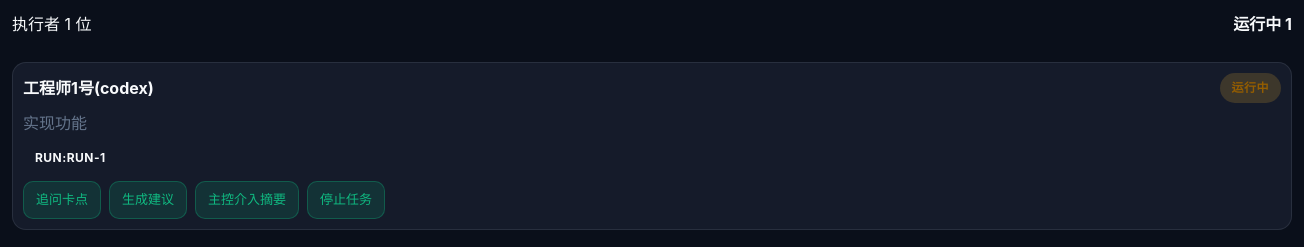
Test: executor stop button transitions from idle to success
Click the button "停止任务" at (346, 200), box [307, 181, 385, 218]
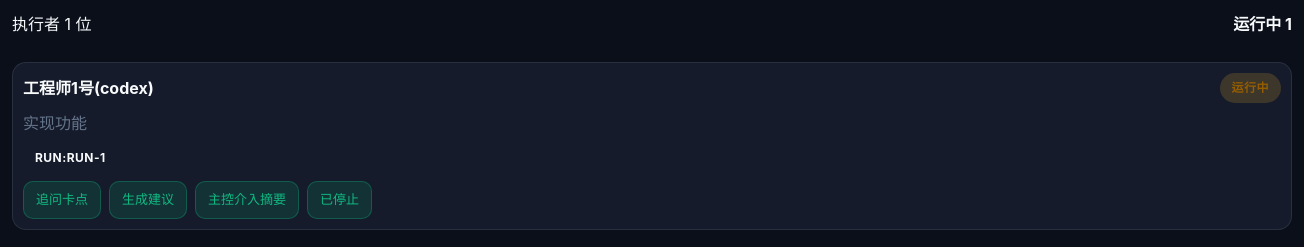
Expected: the button "已停止" is disabled, [307, 181, 372, 218]
